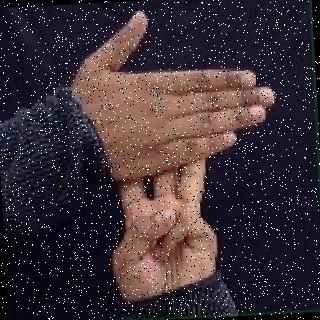M: (79, 7, 275, 294)
